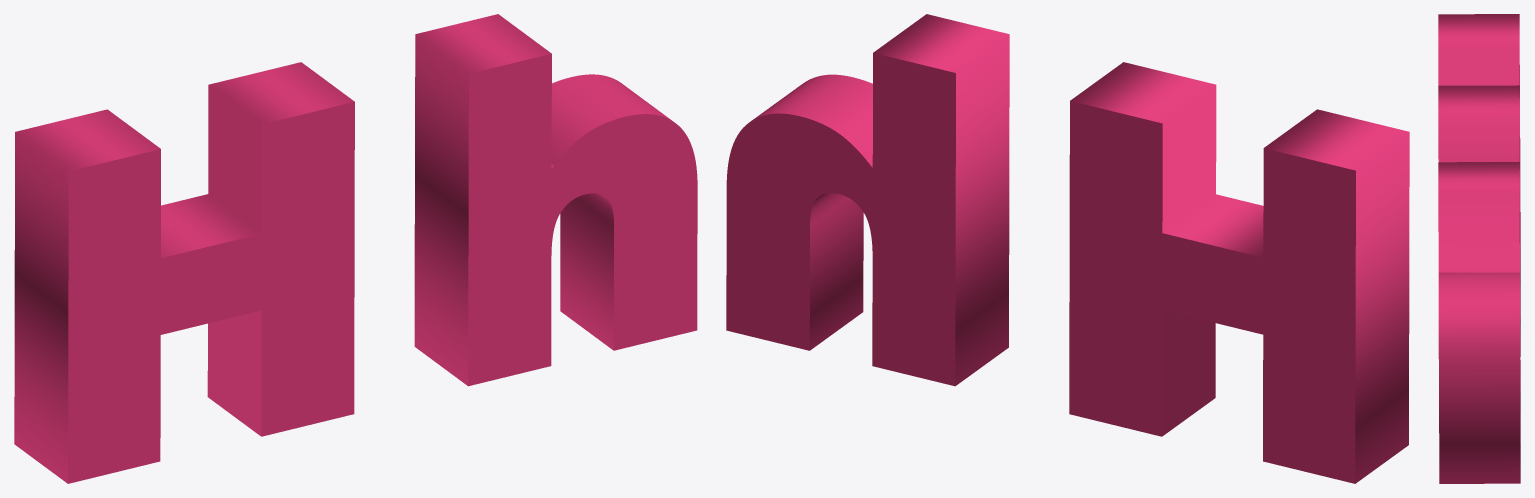
Rendered from letra h.fbx.
The picture shows the model from 3 angles, left to right: view 1: azimuth 30°, elevation 25°; view 2: azimuth 150°, elevation 25°; view 3: azimuth 270°, elevation 25°; orthographic projection. The views are drawn at different scales.
Parts seen in each view (by area): view 1: Text; view 2: Text; view 3: Text.
Part boxes in pixels (x1=…): Text: x1=14, y1=14, x2=697, y2=483; Text: x1=726, y1=14, x2=1409, y2=483; Text: x1=1438, y1=14, x2=1520, y2=483.
Size of the model in its own units: 108 by 51.56 by 16.21.
